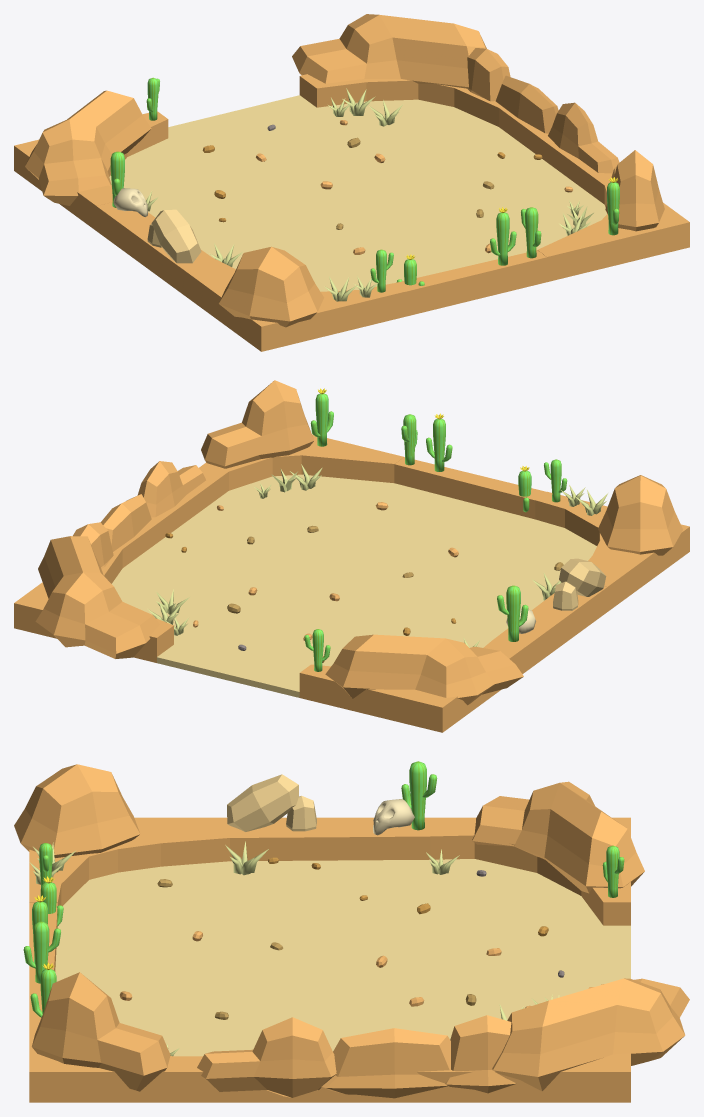
Rendered from desert level set - 1 Way (1).fbx.
3 renders of one model, top to bottom at view 1: azimuth 30°, elevation 25°; view 2: azimuth 150°, elevation 25°; view 3: azimuth 270°, elevation 25°, orthographic. The views are drawn at different scales.
Visible parts, largest first — view 1: land_platform_001, Cube_008, Cube_004, Cube_005, Cube_009, Cube_001, Cube_000, Cube_007, Cube_006, CACTUS_001, CACTUS_002, skull_bone (+3 smaller); view 2: land_platform_001, Cube_004, Cube_008, Cube_009, Cube_005, Cube_001, Cube_007, Cube_000, CACTUS_006, Cube_006, CACTUS_001, CACTUS_005 (+3 smaller); view 3: land_platform_001, Cube_008, Cube_004, Cube_009, Cube_005, Cube_001, Cube_000, Cube_006, Cube_007, CACTUS_006, CACTUS_002, skull_bone (+4 smaller).
Part boxes in pixels (x1,y1,x2,y2): land_platform_001: (14,74,689,351); Cube_008: (292,14,486,88); Cube_004: (25,90,151,205); Cube_005: (219,246,324,327); Cube_009: (605,150,664,231); Cube_001: (548,102,619,173); Cube_000: (495,75,558,133); Cube_007: (147,209,201,263); Cube_006: (467,48,510,101); CACTUS_001: (490,207,516,265); CACTUS_002: (521,207,541,258); skull_bone: (113,188,147,216); land_platform_001: (14,434,689,732); Cube_004: (325,634,523,705); Cube_008: (35,536,159,658); Cube_009: (201,380,314,468); Cube_005: (598,475,682,555); Cube_001: (137,461,205,517); Cube_007: (553,558,606,610); Cube_000: (100,494,151,551); CACTUS_006: (497,585,528,641); Cube_006: (73,522,113,568); CACTUS_001: (426,413,452,471); CACTUS_005: (310,388,333,446); land_platform_001: (29,817,630,1102); Cube_008: (492,978,689,1091); Cube_004: (472,781,644,893); Cube_009: (32,972,170,1091); Cube_005: (14,764,140,858); Cube_001: (197,1017,336,1097); Cube_000: (321,1028,450,1098); Cube_006: (445,1015,516,1093); Cube_007: (227,774,316,831); CACTUS_006: (401,761,437,830); CACTUS_002: (23,921,60,983); skull_bone: (373,799,414,835).
Bounding box in the file's own units: 16.61 × 3.07 × 17.05.
